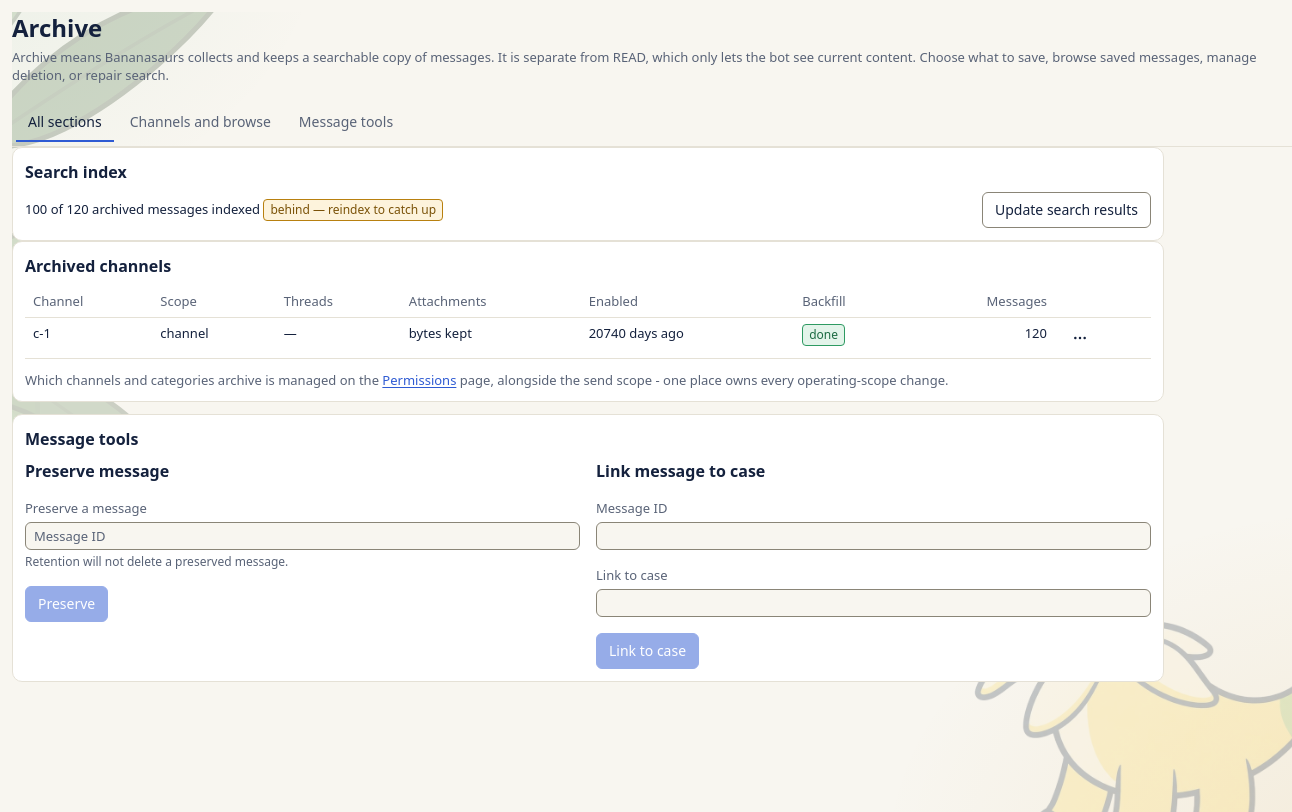
Test: ArchivePage › link-case posts both ids and renders case-closed inline
Expected: the text "c-1" is shown, [33,324,51,342]
In the field labelled "Message ID": [874, 536] box [596,522,1151,550], type "m-1"
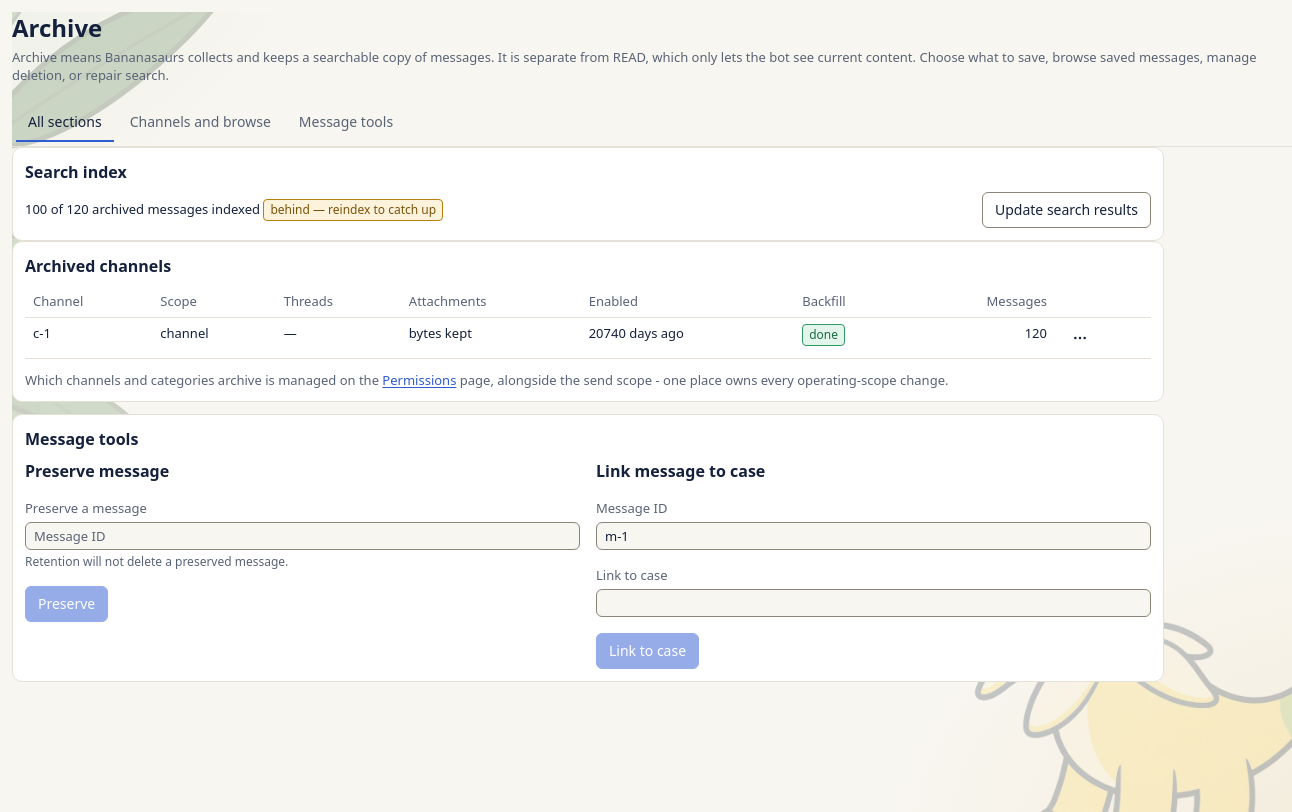
In the field labelled "Link to case": [874, 603] box [596,589,1151,617], type "case-7"
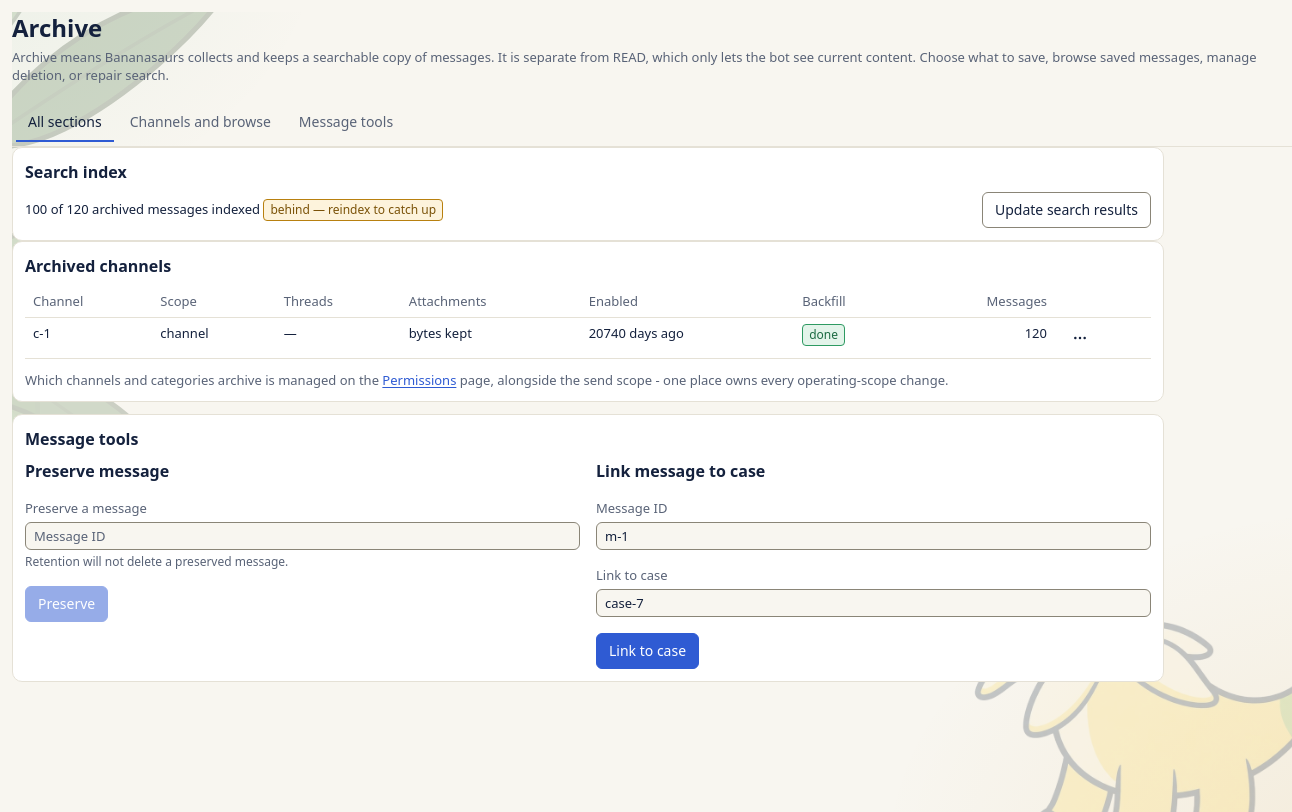
Click the button "Link to case": [648, 651] box [596,633,699,669]
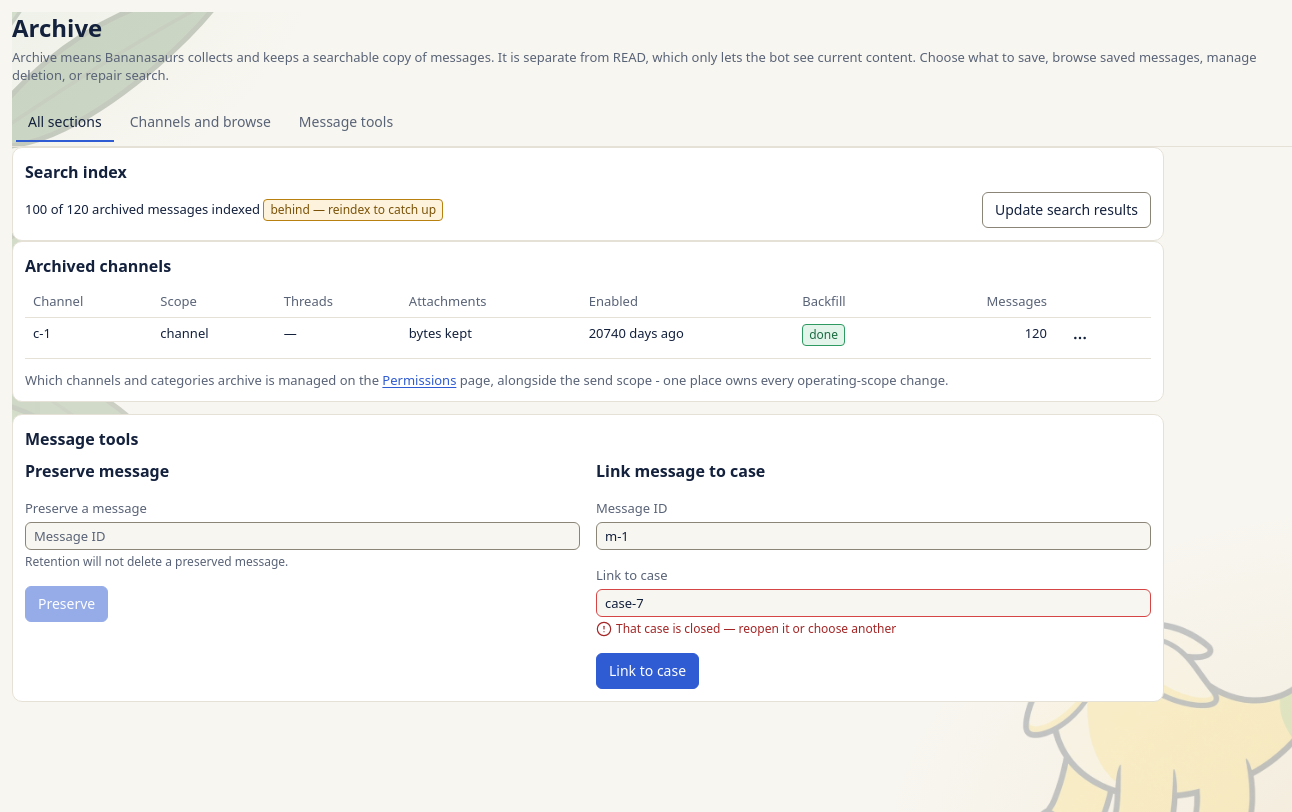
Now the text "That case is closed — reopen it or choose another" is shown, box [596,620,896,637]
